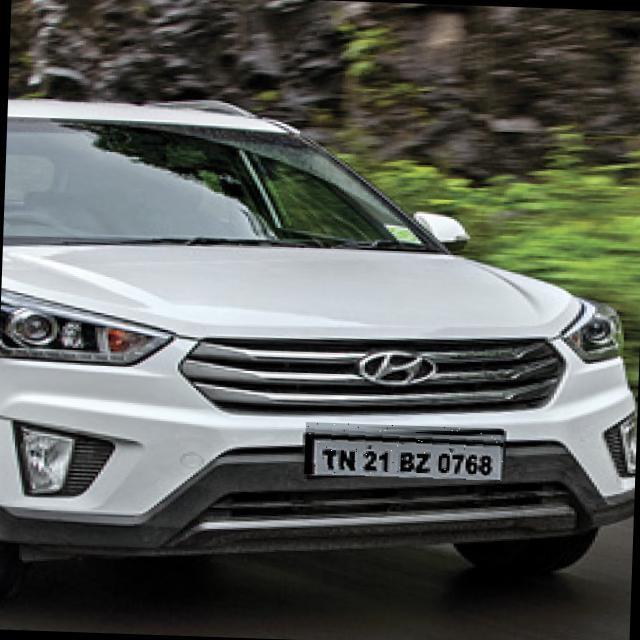Plate: (305, 423, 505, 482)
